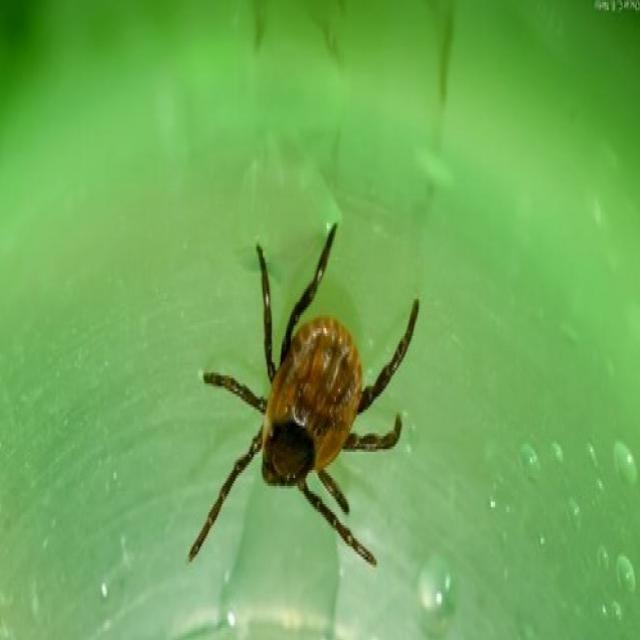Rhipicephalus Sanguineus-F: (190, 223, 417, 565)
